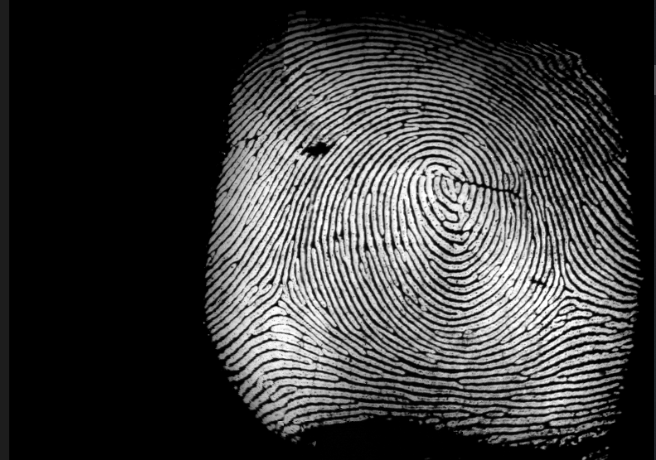nucelo: (427, 167, 473, 212)
verticilo: (258, 281, 302, 318), (547, 270, 585, 311)
